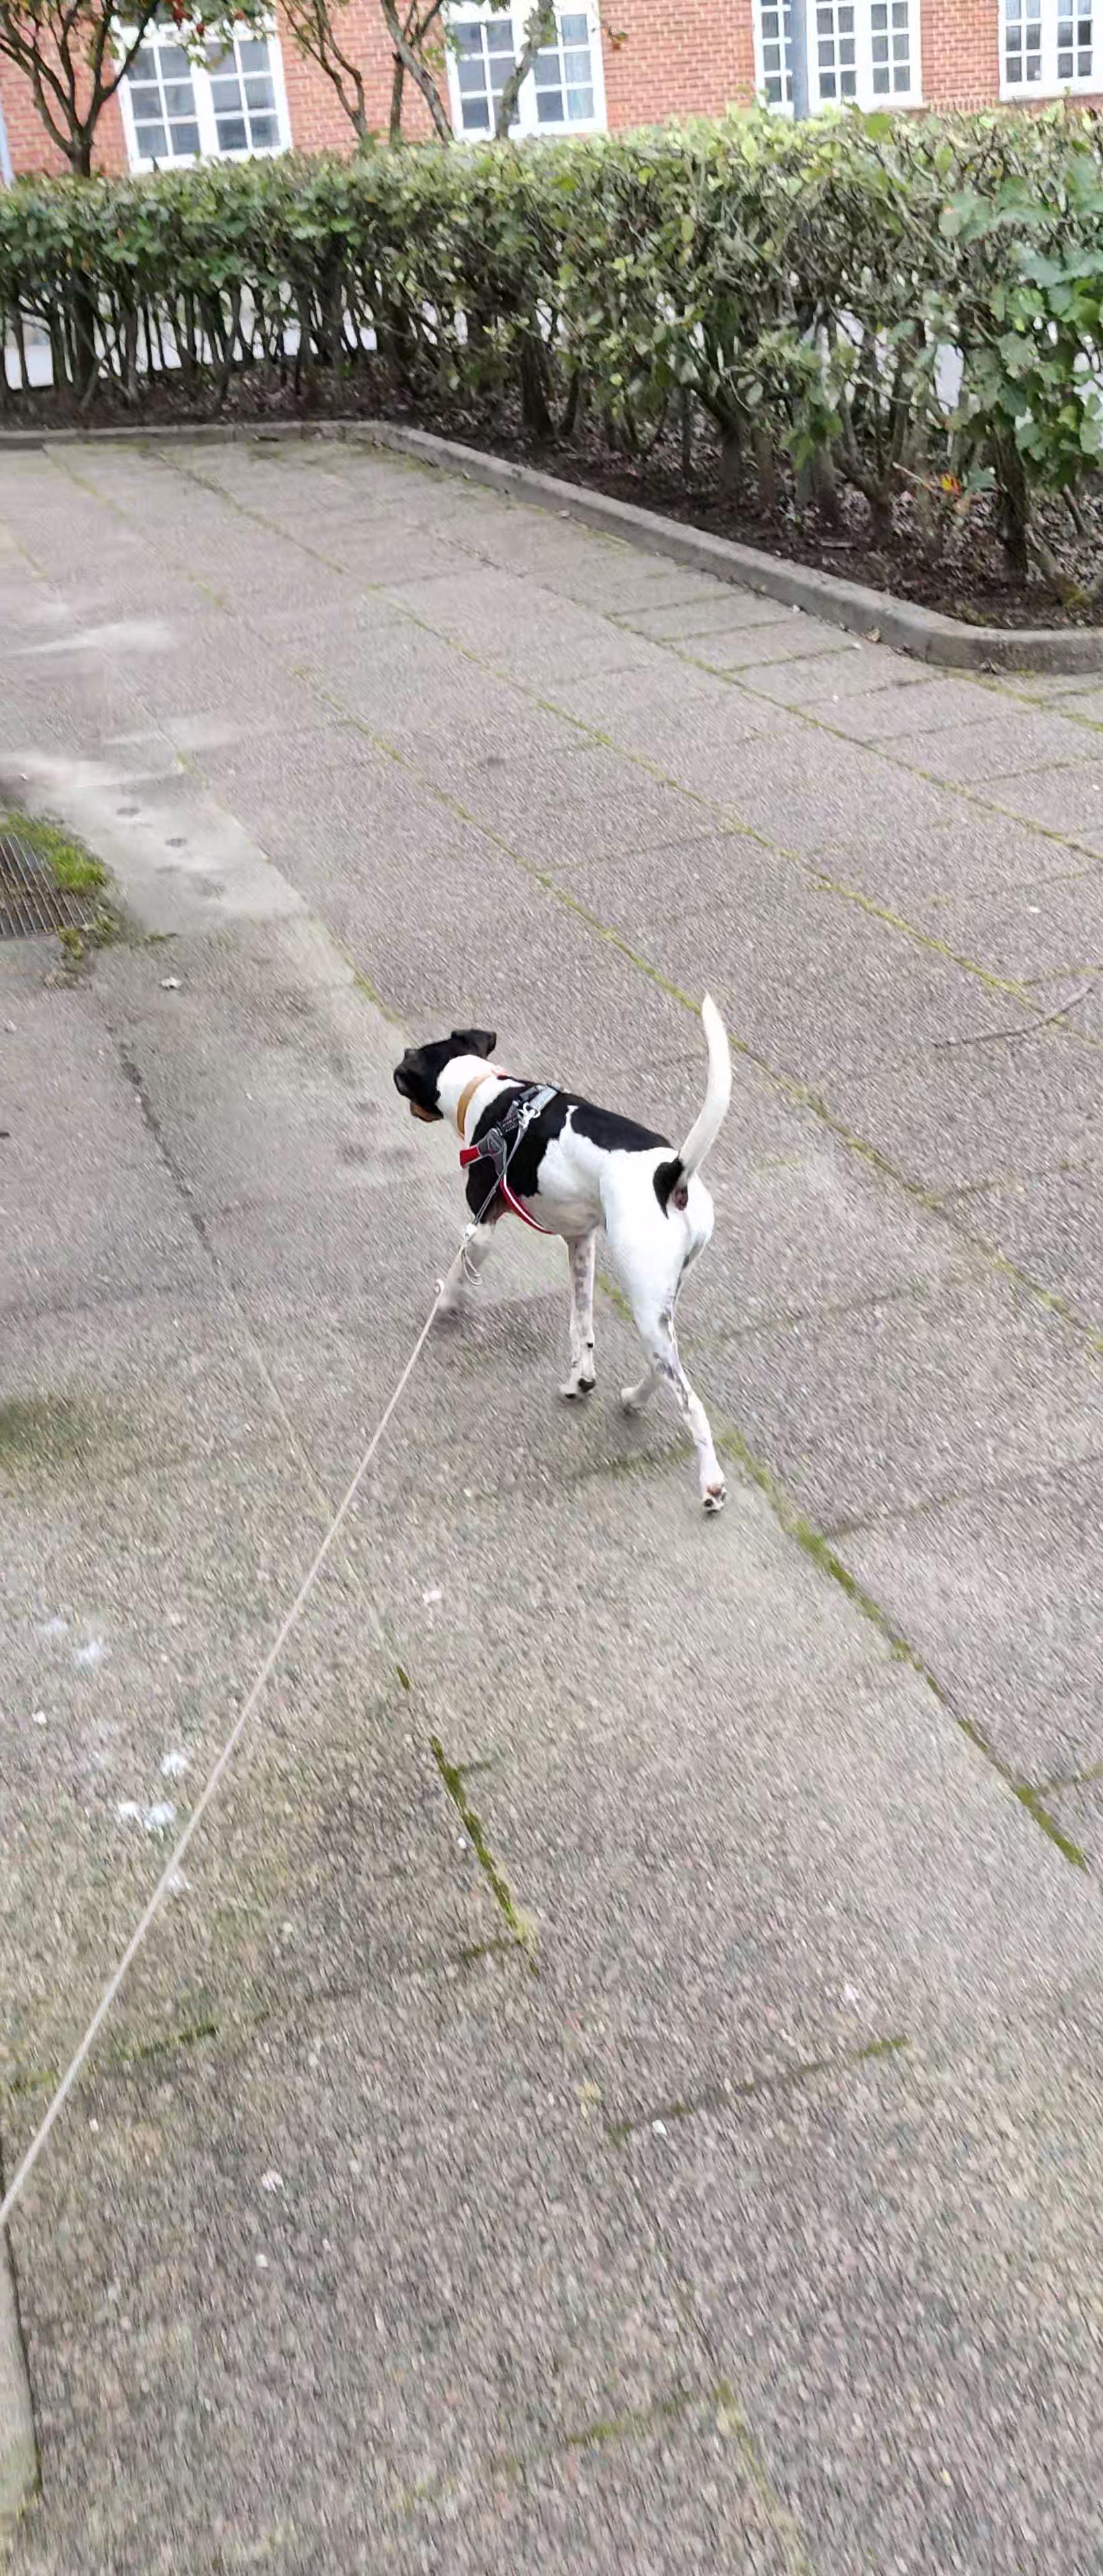Dog: (390, 986, 735, 1518)
